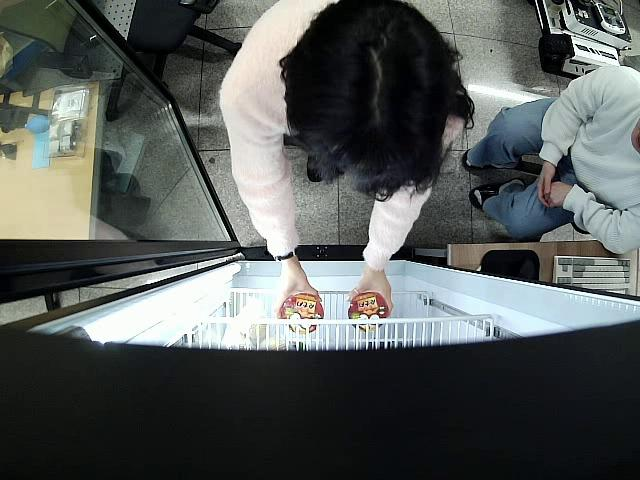00_hand: (343, 267, 394, 318), (274, 266, 322, 319)
06_nuguri_S: (279, 293, 324, 334), (349, 293, 390, 332)
